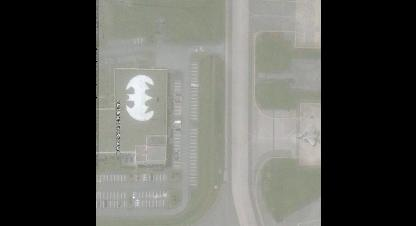F18: (297, 128, 320, 146)
